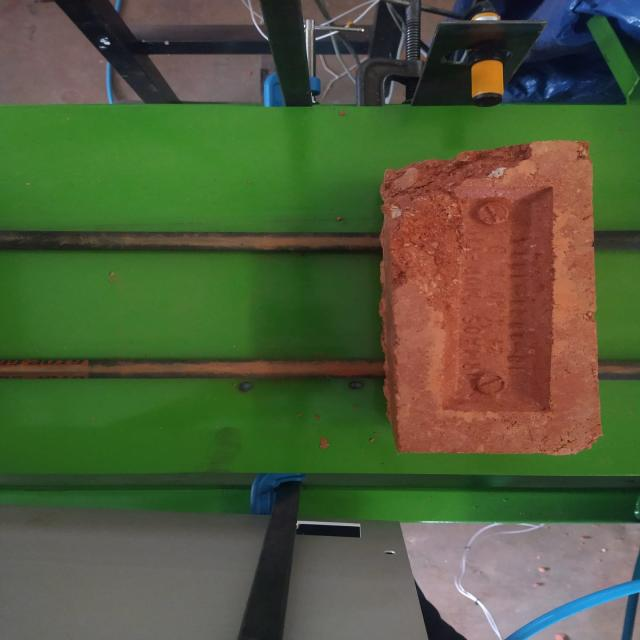bricks_ruin: (372, 140, 597, 455)
